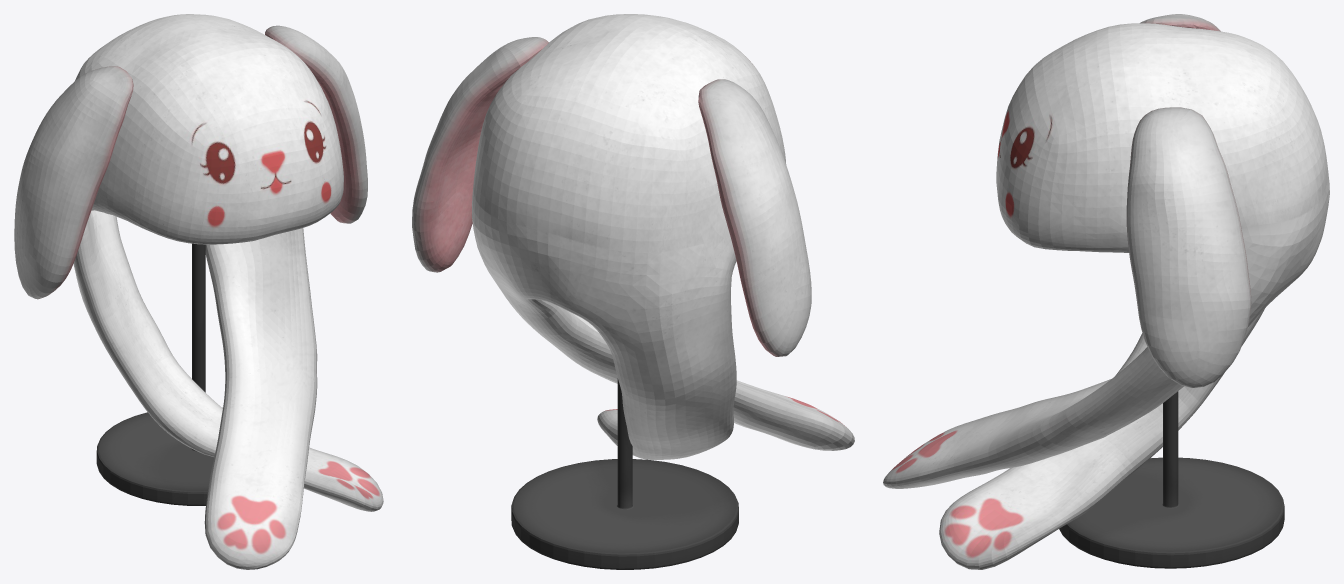
Rendered from Bunny Hat.fbx.
3 views of the same model, side by side, from view 1: azimuth 30°, elevation 25°; view 2: azimuth 150°, elevation 25°; view 3: azimuth 270°, elevation 25° (orthographic). The views are drawn at different scales.
Parts seen in each view (by area): view 1: FG Bunny Hat.Shape; view 2: FG Bunny Hat.Shape; view 3: FG Bunny Hat.Shape.
Boxes of the visible parts, x1,y1,x2,y2 form: FG Bunny Hat.Shape: (14, 14, 383, 569); FG Bunny Hat.Shape: (412, 14, 854, 569); FG Bunny Hat.Shape: (883, 14, 1329, 569).
Bounding box in the file's own units: 31.31 × 39.49 × 33.03.
Materials: 1 (1 with a texture image).
